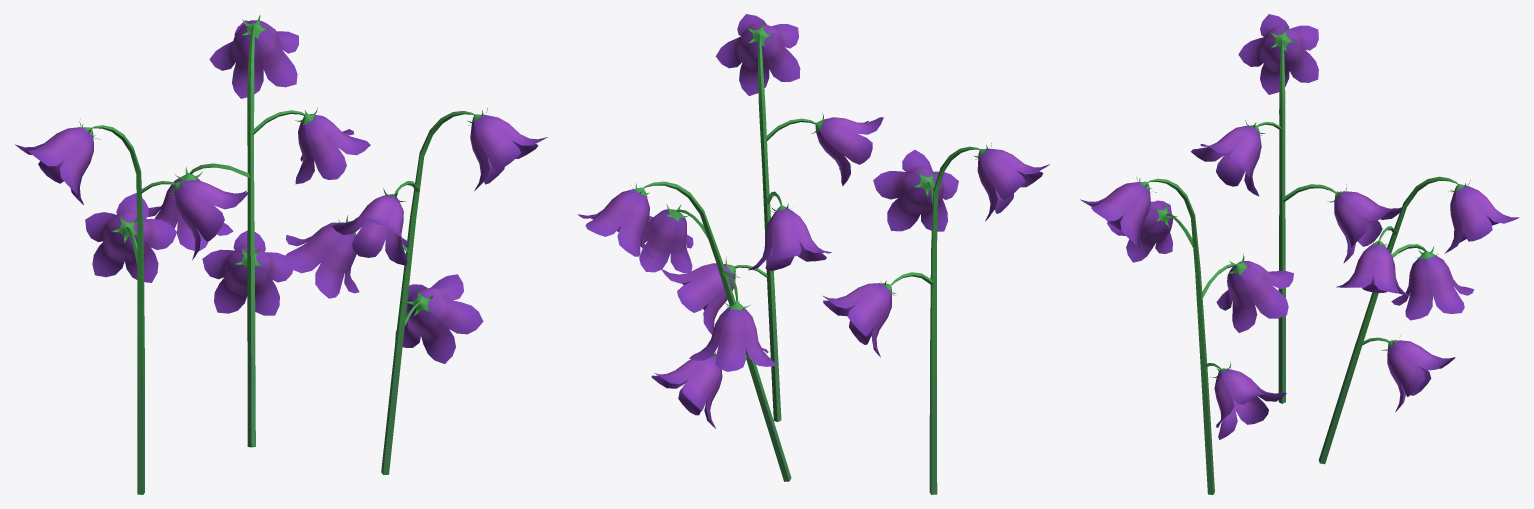
The model's file is env_bluebell_export_01.fbx.
The picture shows the model from 3 angles, left to right: view 1: azimuth 30°, elevation 25°; view 2: azimuth 150°, elevation 25°; view 3: azimuth 270°, elevation 25°; orthographic projection. The views are drawn at different scales.
Parts seen in each view (by area): view 1: bluebells; view 2: bluebells; view 3: bluebells.
Boxes of the visible parts, x1,y1,x2,y2 form: bluebells: [15, 15, 547, 494]; bluebells: [578, 14, 1049, 494]; bluebells: [1080, 14, 1519, 494].
Bounding box in the file's own units: 17.35 × 15.07 × 17.08.
Materials: 1 (1 with a texture image).
